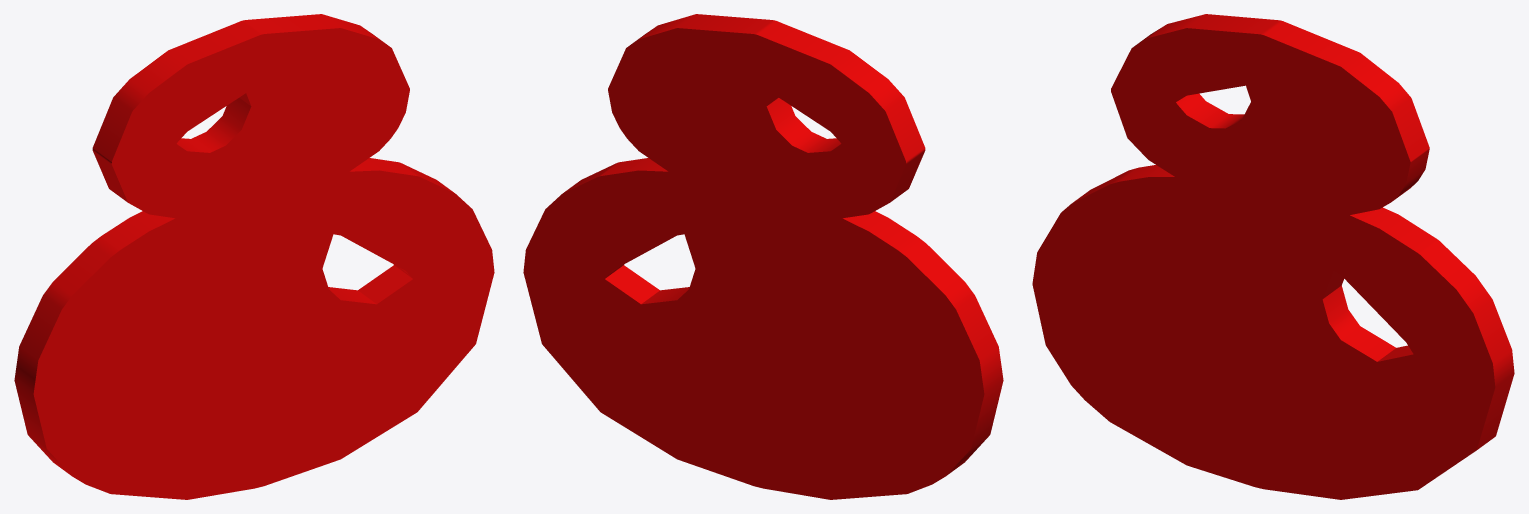
3 renders of one model, left to right at view 1: azimuth 30°, elevation 25°; view 2: azimuth 150°, elevation 25°; view 3: azimuth 330°, elevation 25°, orthographic.
Parts seen in each view (by area): view 1: Trim_Char_x_1_1; view 2: Trim_Char_x_1_1; view 3: Trim_Char_x_1_1.
Boxes of the visible parts, box(x1,y1,x2,y2) form: Trim_Char_x_1_1: box(14, 14, 494, 499); Trim_Char_x_1_1: box(523, 14, 1003, 499); Trim_Char_x_1_1: box(1032, 14, 1514, 499).
Bounding box in the file's own units: 0.7955 × 0.7458 × 0.0572.
